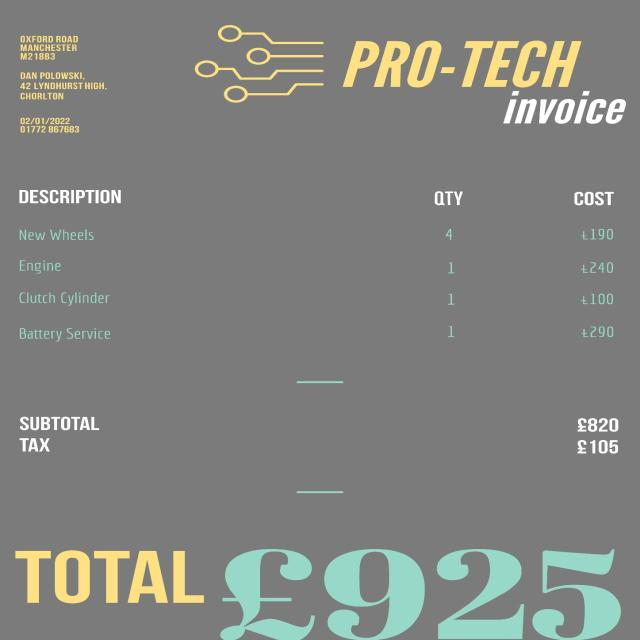paragraph: (18, 540, 630, 640), (19, 399, 632, 459), (341, 35, 615, 87), (499, 90, 628, 126), (18, 71, 110, 101), (18, 33, 80, 61), (19, 118, 83, 136)
table: (15, 176, 632, 364)
